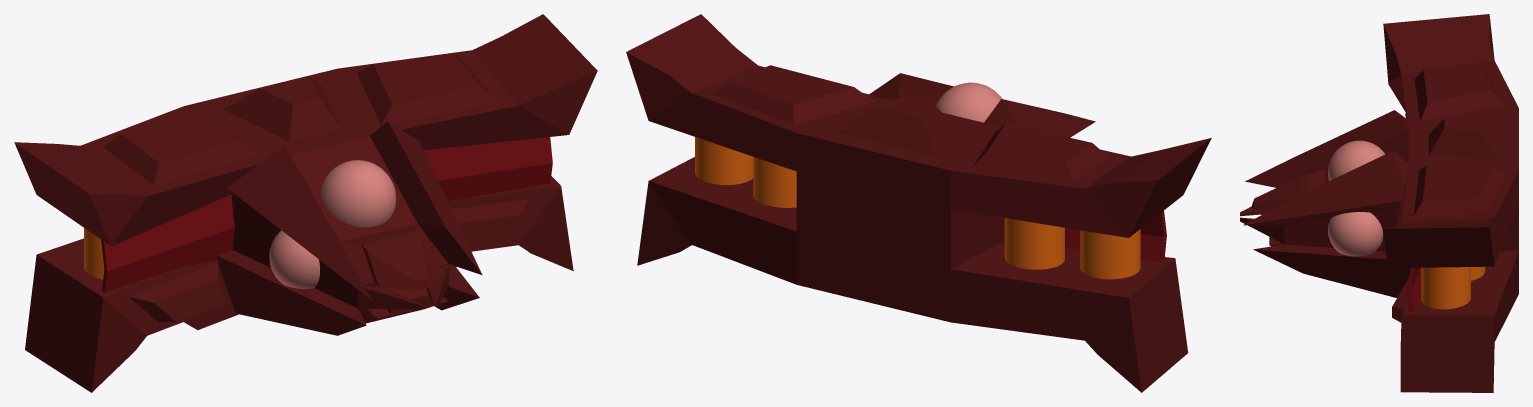
File: boss.fbx
3 renders of one model, left to right at view 1: azimuth 30°, elevation 25°; view 2: azimuth 150°, elevation 25°; view 3: azimuth 270°, elevation 25°, orthographic. The views are drawn at different scales.
Visible parts, largest first — view 1: Cube, Cube.001, Sphere, Sphere.001, Cylinder.001; view 2: Cube, Cylinder, Cylinder.001, Cylinder.003, Cylinder.002, Sphere, Cube.001; view 3: Cube, Sphere.002, Cylinder.003, Sphere, Cube.001.
Part boxes in pixels (box(x1,y1,x2,y2)): Cube: box(14, 14, 597, 392); Cube.001: box(101, 137, 552, 292); Sphere: box(321, 160, 396, 227); Sphere.001: box(269, 230, 319, 288); Cylinder.001: box(84, 228, 104, 279); Cube: box(626, 14, 1211, 392); Cylinder: box(1004, 218, 1064, 269); Cylinder.001: box(1080, 229, 1140, 279); Cylinder.003: box(695, 137, 753, 184); Cylinder.002: box(753, 157, 796, 207); Sphere: box(935, 82, 1002, 122); Cube.001: box(1065, 211, 1166, 261); Cube: box(1240, 14, 1518, 392); Sphere.002: box(1328, 212, 1382, 256); Cylinder.003: box(1421, 267, 1470, 309); Sphere: box(1327, 140, 1385, 180); Cube.001: box(1405, 113, 1421, 312).
Bounding box in the file's own units: 2035 × 797 × 1128.
